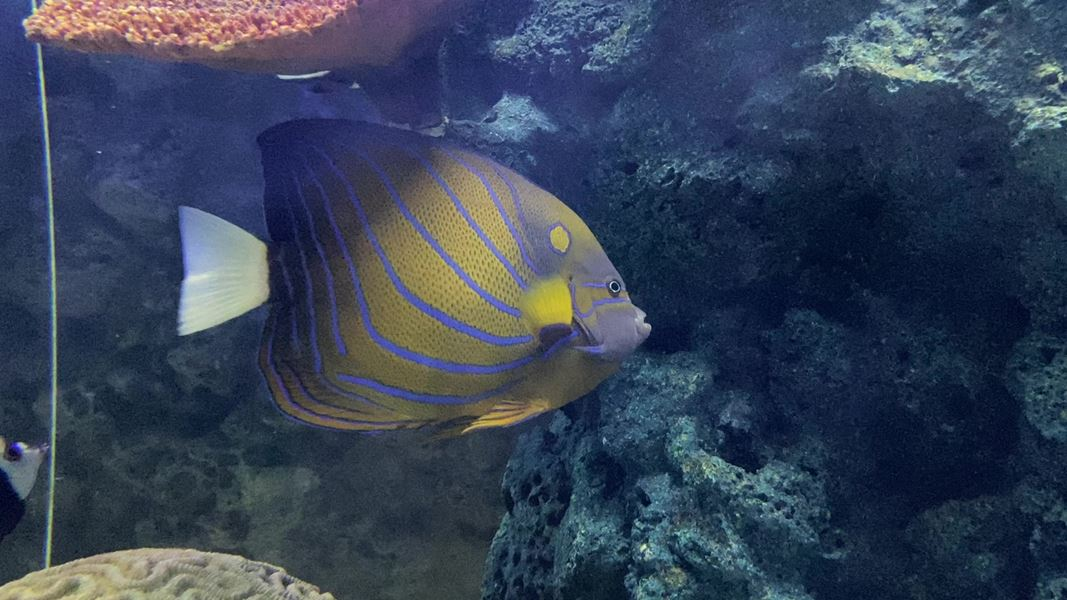Blue ring angelfish: (160, 115, 663, 452)
